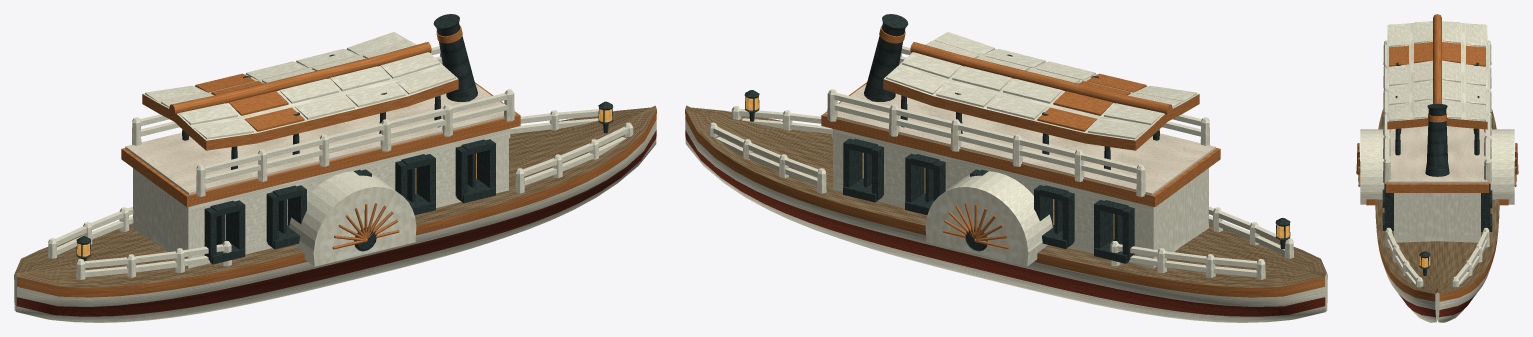
Rendered from alps_steam_paddleboat_mid.glb.
3 views of the same model, side by side, from view 1: azimuth 30°, elevation 25°; view 2: azimuth 150°, elevation 25°; view 3: azimuth 270°, elevation 25° (orthographic). The views are drawn at different scales.
Visible parts, largest first — view 1: alps_steam_paddleboat_mid; view 2: alps_steam_paddleboat_mid; view 3: alps_steam_paddleboat_mid.
Boxes of the visible parts, x1=… form: alps_steam_paddleboat_mid: x1=14, y1=14, x2=656, y2=322; alps_steam_paddleboat_mid: x1=685, y1=14, x2=1327, y2=322; alps_steam_paddleboat_mid: x1=1356, y1=14, x2=1518, y2=322.
Size of the model in its own units: 15 by 5.2 by 4.2.
Materials: 2 (2 with a texture image).
